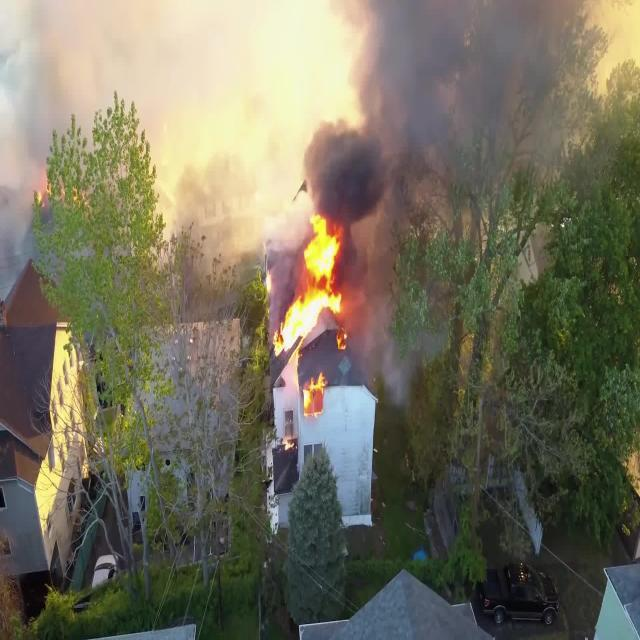Fire: (278, 292, 341, 352), (305, 214, 338, 290)
Smoke: (362, 15, 530, 148)
